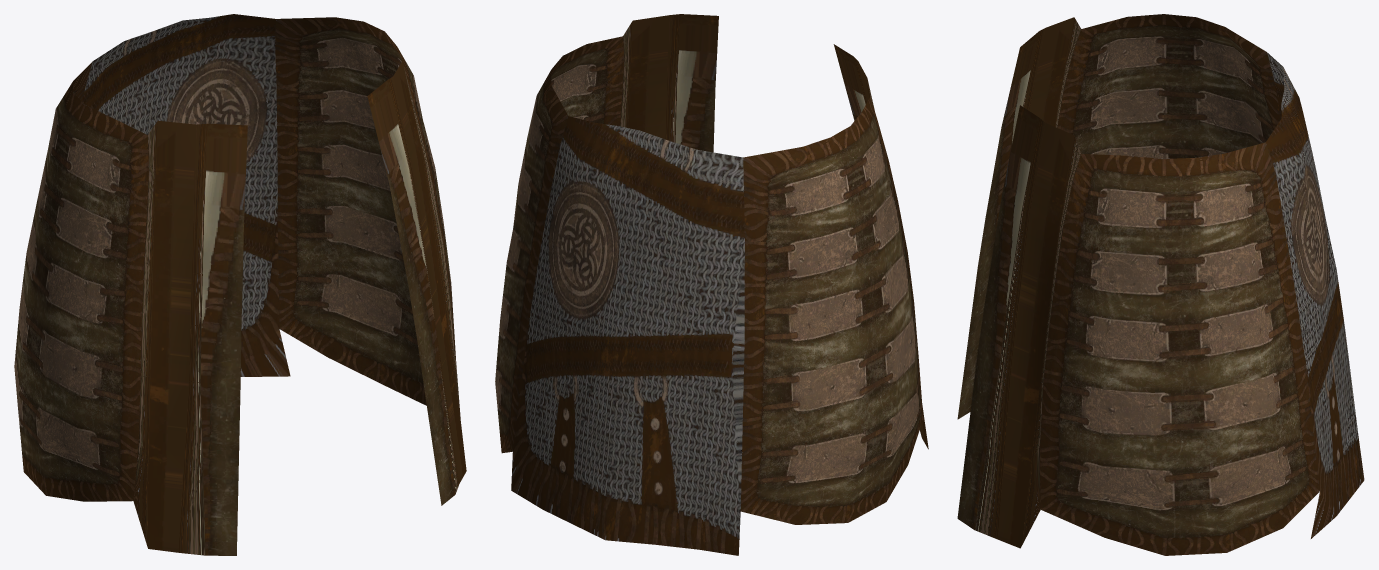
File: clo_dunland_caerdh_chainmail_lord_c.fbx
3 renders of one model, left to right at view 1: azimuth 30°, elevation 25°; view 2: azimuth 150°, elevation 25°; view 3: azimuth 270°, elevation 25°, orthographic. The views are drawn at different scales.
Parts seen in each view (by area): view 1: clo_dunland_caerdh_chainmail_lord_c; view 2: clo_dunland_caerdh_chainmail_lord_c; view 3: clo_dunland_caerdh_chainmail_lord_c.
Boxes of the visible parts, x1,y1,x2,y2 form: clo_dunland_caerdh_chainmail_lord_c: [14, 14, 466, 555]; clo_dunland_caerdh_chainmail_lord_c: [495, 14, 928, 555]; clo_dunland_caerdh_chainmail_lord_c: [957, 14, 1364, 555].
Bounding box in the file's own units: 0.5083 × 0.4635 × 0.5075.
1 material, 1 textured.
